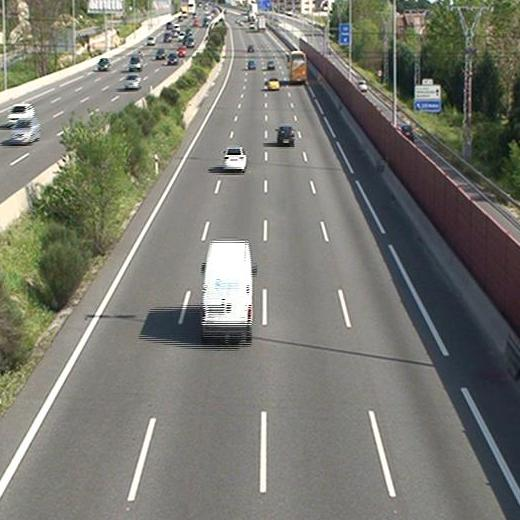bus: (288, 50, 306, 84)
car: (224, 147, 246, 169), (276, 125, 295, 144), (266, 78, 279, 90), (266, 61, 274, 71), (247, 61, 255, 70)
van: (203, 240, 253, 340)
